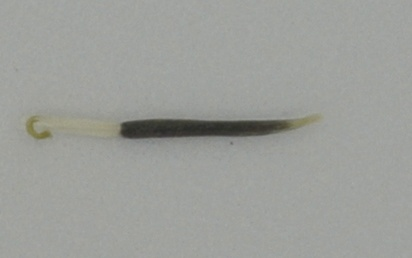เมล็ดดีเรียวยาว: (17, 105, 325, 146)
